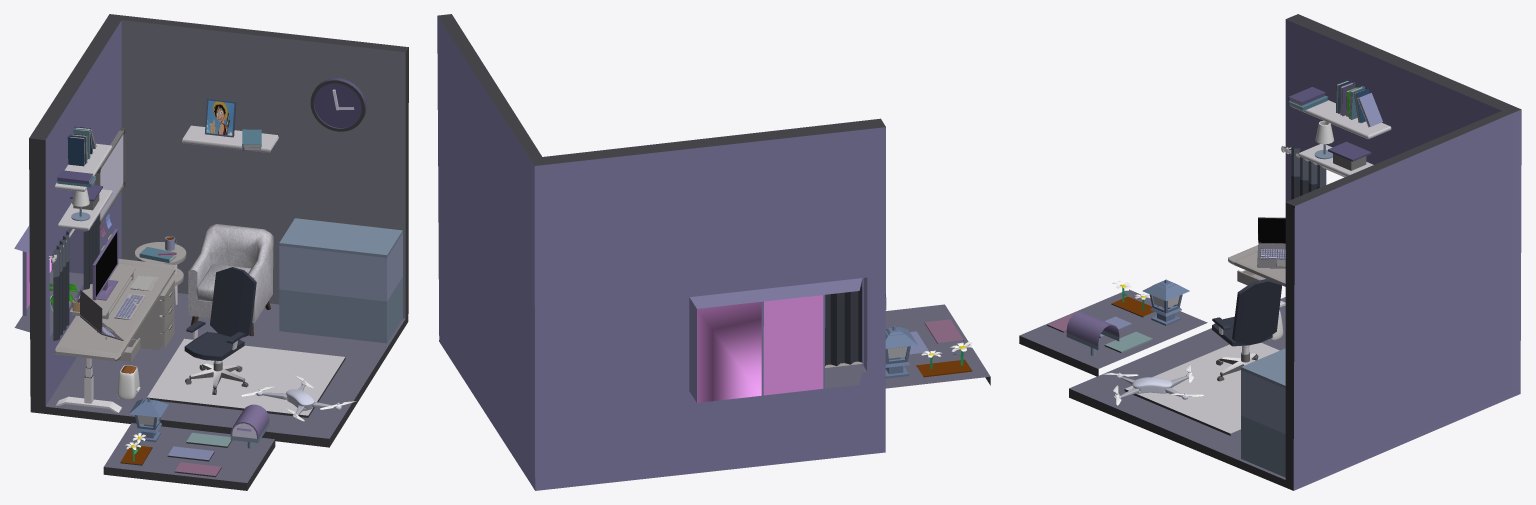
The model's file is myRoomV2.glb.
3 views of the same model, side by side, from view 1: azimuth 30°, elevation 25°; view 2: azimuth 150°, elevation 25°; view 3: azimuth 270°, elevation 25° (orthographic). The views are drawn at different scales.
Parts seen in each view (by area): view 1: Room, Aquarium, room extended.004, room extended, AquariumGlass, SofaChair, tableTop, Cylinder.002, curtains, ClockBody, whiteBoard, rack1.001 (+20 smaller); view 2: Room, room extended, curtains, outdoorLamp, room extended.005, room extended.002; view 3: Room, room extended.004, room extended, Cylinder.002, Aquarium, AquariumGlass, mailbox, rack2, curtains, outdoorLamp, tableTop, Cube.003 (+5 smaller).
Part boxes in pixels (left/top/right/bottom): Room: left=14, top=14, right=408, bottom=447; Aquarium: left=279, top=218, right=402, bottom=343; room extended.004: left=147, top=338, right=345, bottom=417; room extended: left=103, top=423, right=275, bottom=490; AquariumGlass: left=279, top=233, right=402, bottom=301; SofaChair: left=188, top=224, right=273, bottom=336; tableTop: left=55, top=258, right=175, bottom=361; Cylinder.002: left=184, top=267, right=256, bottom=360; curtains: left=53, top=214, right=99, bottom=340; ClockBody: left=310, top=78, right=366, bottom=131; whiteBoard: left=95, top=128, right=125, bottom=225; rack1.001: left=182, top=125, right=278, bottom=152; Room: left=437, top=14, right=885, bottom=490; room extended: left=885, top=304, right=990, bottom=388; curtains: left=825, top=279, right=862, bottom=365; outdoorLamp: left=885, top=326, right=917, bottom=378; room extended.005: left=916, top=359, right=972, bottom=377; room extended.002: left=924, top=319, right=963, bottom=343; Room: left=1069, top=14, right=1521, bottom=490; room extended.004: left=1124, top=342, right=1279, bottom=435; room extended: left=1019, top=289, right=1207, bottom=376; Cylinder.002: left=1212, top=279, right=1281, bottom=346; Aquarium: left=1241, top=348, right=1285, bottom=477; AquariumGlass: left=1241, top=370, right=1285, bottom=433; mailbox: left=1066, top=311, right=1119, bottom=349; rack2: left=1292, top=100, right=1391, bottom=139; curtains: left=1291, top=146, right=1326, bottom=199; outdoorLamp: left=1142, top=279, right=1189, bottom=325; tableTop: left=1228, top=245, right=1285, bottom=286; Cube.003: left=1328, top=141, right=1371, bottom=170.
Size of the model in its own units: 27.74 by 18.96 by 30.1.
59 materials, 4 textured.
